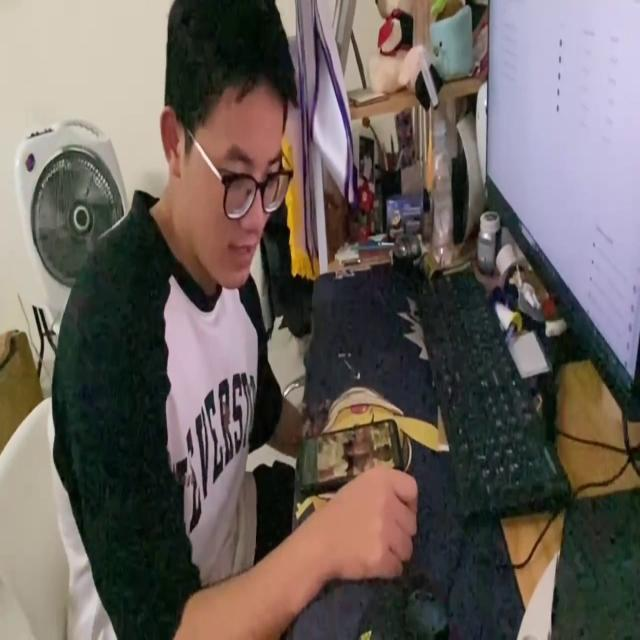laptop: (484, 0, 640, 418)
phone: (293, 416, 407, 496)
student: (49, 0, 420, 640)
